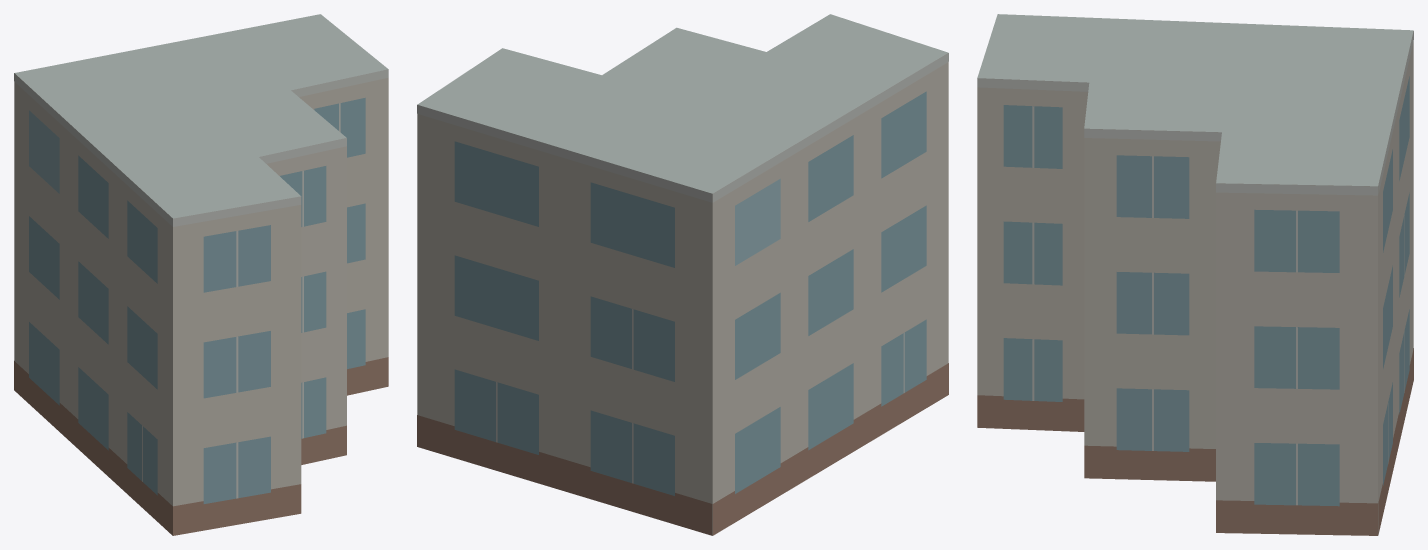
Rendered from survey-upis-32595643.glb.
The picture shows the model from 3 angles, left to right: view 1: azimuth 30°, elevation 25°; view 2: azimuth 150°, elevation 25°; view 3: azimuth 270°, elevation 25°; orthographic projection. The views are drawn at different scales.
Visible parts, largest first — view 1: survey-upis-32595643.tmp; view 2: survey-upis-32595643.tmp; view 3: survey-upis-32595643.tmp.
Part boxes in pixels (x1,y1,x2,y2): survey-upis-32595643.tmp: (14, 14, 388, 535); survey-upis-32595643.tmp: (417, 14, 948, 535); survey-upis-32595643.tmp: (977, 14, 1413, 535).
Bounding box in the file's own units: 9.68 × 9.15 × 10.37.
